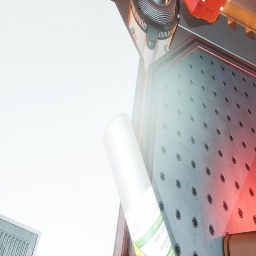0: (103, 112, 176, 256)
FirstAidBox ,: (183, 0, 227, 22)
